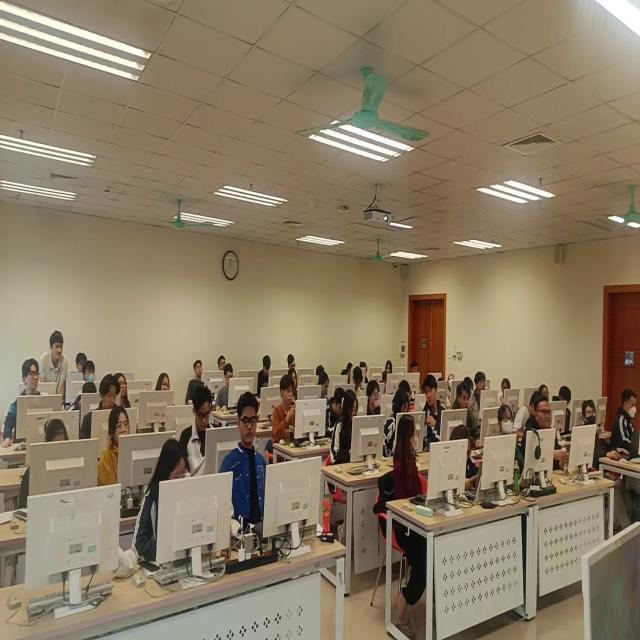raise_head: (522, 399, 569, 480), (3, 357, 43, 449), (97, 403, 134, 490), (80, 372, 122, 443), (579, 396, 622, 462), (499, 403, 528, 480), (453, 378, 481, 449), (185, 357, 207, 406), (473, 368, 488, 418), (117, 369, 133, 407), (155, 371, 174, 396), (82, 357, 97, 386), (448, 370, 458, 408), (74, 351, 89, 374), (290, 366, 300, 399), (539, 382, 551, 401), (384, 358, 394, 378), (218, 355, 227, 372)
stand: (39, 326, 69, 402)
using_computer: (134, 436, 192, 566), (219, 390, 271, 527), (18, 417, 73, 512), (179, 382, 218, 478), (330, 388, 360, 465), (608, 384, 640, 454), (514, 388, 542, 439), (324, 385, 345, 439), (217, 361, 236, 414), (557, 385, 576, 432), (365, 378, 385, 419), (465, 376, 481, 420), (257, 353, 272, 397), (400, 379, 415, 408), (317, 371, 330, 403), (352, 366, 365, 398), (360, 360, 372, 386), (288, 351, 298, 373), (315, 361, 327, 378), (413, 360, 421, 381), (439, 374, 445, 390)
using_phone: (448, 420, 483, 501), (272, 371, 299, 445)
